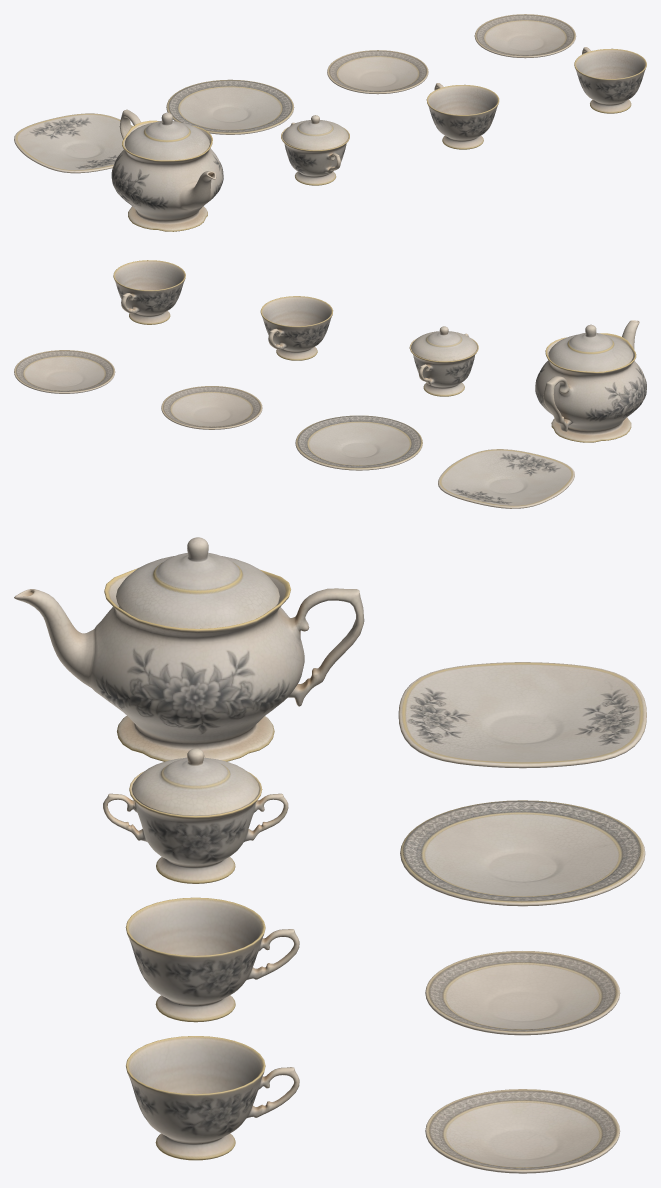
The model's file is tea_set_01.glb.
The picture shows the model from 3 angles, top to bottom: view 1: azimuth 30°, elevation 25°; view 2: azimuth 150°, elevation 25°; view 3: azimuth 270°, elevation 25°; orthographic projection. The views are drawn at different scales.
Parts seen in each view (by area): view 1: tea_set_01_teapot_01, tea_set_01_plate_large_circular_03, tea_set_01_plate_large_square_01, tea_set_01_cup_small_01, tea_set_01_cup_small_02, tea_set_01_saucer_circular_03, tea_set_01_saucer_circular_04, tea_set_01_teapot_01_lid, tea_set_01_sugar_cup_01, tea_set_01_sugar_cup_01_lid; view 2: tea_set_01_teapot_01, tea_set_01_plate_large_square_01, tea_set_01_plate_large_circular_03, tea_set_01_cup_small_01, tea_set_01_cup_small_02, tea_set_01_saucer_circular_04, tea_set_01_saucer_circular_03, tea_set_01_teapot_01_lid, tea_set_01_sugar_cup_01, tea_set_01_sugar_cup_01_lid; view 3: tea_set_01_teapot_01, tea_set_01_plate_large_square_01, tea_set_01_plate_large_circular_03, tea_set_01_cup_small_01, tea_set_01_cup_small_02, tea_set_01_saucer_circular_03, tea_set_01_saucer_circular_04, tea_set_01_teapot_01_lid, tea_set_01_sugar_cup_01, tea_set_01_sugar_cup_01_lid.
Boxes of the visible parts, x1,y1,x2,y2 form: tea_set_01_teapot_01: [111, 109, 223, 231]; tea_set_01_plate_large_circular_03: [166, 79, 294, 134]; tea_set_01_plate_large_square_01: [14, 113, 133, 173]; tea_set_01_cup_small_01: [426, 83, 499, 149]; tea_set_01_cup_small_02: [574, 47, 646, 113]; tea_set_01_saucer_circular_03: [474, 14, 576, 58]; tea_set_01_saucer_circular_04: [327, 50, 428, 94]; tea_set_01_teapot_01_lid: [125, 112, 209, 160]; tea_set_01_sugar_cup_01: [281, 122, 349, 185]; tea_set_01_sugar_cup_01_lid: [282, 115, 348, 150]; tea_set_01_teapot_01: [535, 320, 646, 442]; tea_set_01_plate_large_square_01: [438, 449, 574, 508]; tea_set_01_plate_large_circular_03: [295, 415, 422, 470]; tea_set_01_cup_small_01: [260, 296, 333, 360]; tea_set_01_cup_small_02: [113, 260, 185, 324]; tea_set_01_saucer_circular_04: [161, 386, 262, 429]; tea_set_01_saucer_circular_03: [14, 350, 115, 393]; tea_set_01_teapot_01_lid: [548, 324, 633, 371]; tea_set_01_sugar_cup_01: [409, 333, 478, 396]; tea_set_01_sugar_cup_01_lid: [411, 326, 477, 361]; tea_set_01_teapot_01: [14, 568, 364, 761]; tea_set_01_plate_large_square_01: [398, 662, 646, 768]; tea_set_01_plate_large_circular_03: [400, 800, 645, 906]; tea_set_01_cup_small_01: [125, 897, 299, 1022]; tea_set_01_cup_small_02: [126, 1036, 299, 1160]; tea_set_01_saucer_circular_03: [425, 1089, 620, 1173]; tea_set_01_saucer_circular_04: [425, 951, 620, 1035]; tea_set_01_teapot_01_lid: [116, 537, 279, 628]; tea_set_01_sugar_cup_01: [103, 771, 288, 883]; tea_set_01_sugar_cup_01_lid: [131, 748, 259, 815].
Bounding box in the file's own units: 0.9185 × 0.165 × 0.4839.
Materials: 1 (1 with a texture image).
